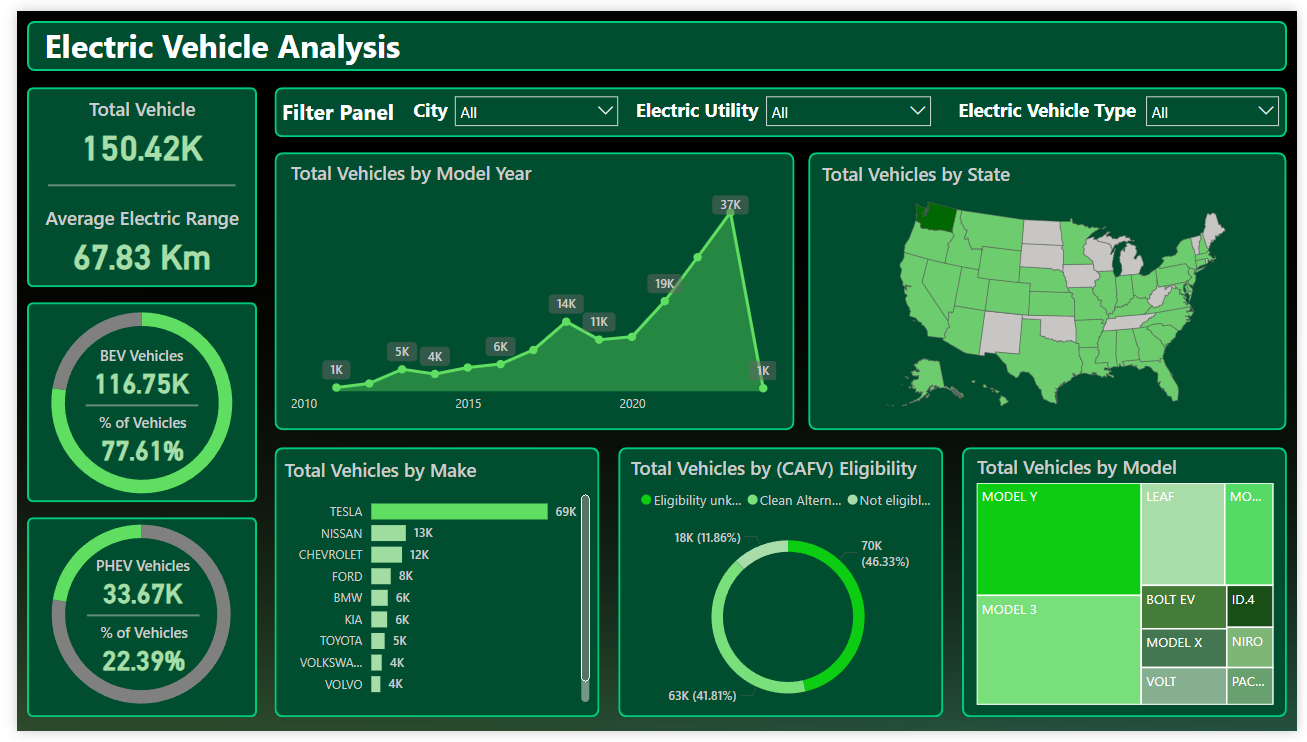

The dashboard page shown, as its layout file describes it:
{"tool":"powerbi","page":{"name":"Page 1","canvas":[1280,720],"ordinal":0},"visuals":[{"type":"slicer","fields":{"Values":["Electric_Vehicle_Population_Data.City"]},"box":[427.6,75.3,183.9,46.7],"z":0,"group":"g4"},{"type":"shape","box":[10,76.1,230,200],"z":0,"group":"g1"},{"type":"shape","box":[257.5,76.2,1012.5,50],"z":0},{"type":"donutChart","fields":{"Category":["Electric_Vehicle_Population_Data.Electric Vehicle Type"],"Y":["Electric_Vehicle_Population_Data.Total Vehicles"]},"box":[0,491.2,248.8,228.8],"z":0,"group":"g3"},{"type":"textbox","box":[391.5,82.1,66.7,39.1],"z":1000,"group":"g4"},{"type":"card","title":"Total Vehicle","fields":{"Values":["Electric_Vehicle_Population_Data.Total Vehicles"]},"box":[10,84.7,230,74.3],"z":1000,"group":"g1"},{"type":"donutChart","fields":{"Category":["Electric_Vehicle_Population_Data.Electric Vehicle Type"],"Y":["Electric_Vehicle_Population_Data.Total Vehicles"]},"box":[5,278.8,240,231.2],"z":1000,"group":"g2"},{"type":"shape","box":[10,290.9,230,200],"z":1000},{"type":"shape","box":[70,585.2,112.5,38.8],"z":1000,"group":"g3"},{"type":"slicer","fields":{"Values":["Electric_Vehicle_Population_Data.Electric Utility"]},"box":[739.3,75,185,46.7],"z":2000},{"type":"card","title":"Average Electric Range","fields":{"Values":["Electric_Vehicle_Population_Data.Avg Range"]},"box":[10,193.2,230,74.3],"z":2000,"group":"g1"},{"type":"card","title":"PHEV Vehicles","fields":{"Values":["Electric_Vehicle_Population_Data.PHEV Vehicles"]},"box":[47.5,543.9,156.2,55],"z":2000,"group":"g3"},{"type":"shape","box":[257.5,141.2,520,278],"z":3000},{"type":"shape","box":[31.4,154.7,187.1,38.6],"z":3000,"group":"g1"},{"type":"shape","box":[68.8,375,112.5,38.8],"z":3000,"group":"g2"},{"type":"card","title":"% of Vehicles","fields":{"Values":["Electric_Vehicle_Population_Data.% of PHEV"]},"box":[48.7,611.4,156.2,55],"z":3000,"group":"g3"},{"type":"textbox","box":[614.3,81.7,158.3,40],"z":4000},{"type":"card","title":"BEV Vehicles","fields":{"Values":["Electric_Vehicle_Population_Data.BEV Vehicles"]},"box":[46.2,333.8,156.2,55],"z":4000,"group":"g2"},{"type":"shape","box":[10,10,1260,50],"z":5000},{"type":"textbox","box":[22.9,7.1,378.6,62.9],"z":6000},{"type":"shape","box":[10,505.7,230,200],"z":7000},{"type":"card","title":"% of Vehicles","fields":{"Values":["Electric_Vehicle_Population_Data.% of BEV"]},"box":[47.5,401.3,156.2,55],"z":7001,"group":"g2"},{"type":"group","id":"g1","title":"Group 1","box":[10,76.1,230,200],"z":8000},{"type":"group","id":"g2","title":"Group 2","box":[5,278.8,240,231.2],"z":9000},{"type":"group","id":"g3","title":"Group 3","box":[0,491.2,248.8,228.8],"z":10000},{"type":"areaChart","fields":{"Y":["Electric_Vehicle_Population_Data.Total Vehicles"],"Category":["Electric_Vehicle_Population_Data.Model Year"]},"box":[268.6,148.6,495.7,262.9],"z":11000},{"type":"shape","box":[791.7,141.7,478.3,278],"z":12000},{"type":"shapeMap","fields":{"Category":["Electric_Vehicle_Population_Data.State"],"Value":["Electric_Vehicle_Population_Data.Total Vehicles"]},"box":[800.2,150.2,477.9,261.6],"z":13000},{"type":"shape","box":[257.5,436.2,325,270],"z":14000},{"type":"barChart","fields":{"Category":["Electric_Vehicle_Population_Data.Make"],"Y":["Electric_Vehicle_Population_Data.Total Vehicles"]},"box":[262.5,446.2,315,250],"z":15000},{"type":"shape","box":[601.2,436.2,325,270],"z":16000},{"type":"shape","box":[945,436.2,325,270],"z":17000},{"type":"donutChart","title":"Total Vehicles by (CAFV) Eligibility","fields":{"Category":["Electric_Vehicle_Population_Data.Clean Alternative Fuel Vehicle (CAFV) Eligibility"],"Y":["Electric_Vehicle_Population_Data.Total Vehicles"]},"box":[608.8,443.8,325,270],"z":18000},{"type":"treemap","fields":{"Group":["Electric_Vehicle_Population_Data.Model"],"Values":["Electric_Vehicle_Population_Data.Total Vehicles"]},"box":[955,442.5,306.2,256.2],"z":19000},{"type":"textbox","box":[260,81.7,193.3,58.3],"z":20000},{"type":"group","id":"g4","title":"Group 4","box":[391.5,75.3,220,46.7],"z":21000},{"type":"slicer","fields":{"Values":["Electric_Vehicle_Population_Data.Electric Vehicle Type"]},"box":[1118.3,75,153.3,46.7],"z":22000},{"type":"textbox","box":[936.7,81.7,208.3,45],"z":23000}]}

Visuals, with their boxes in screenshot pixels (x1, y1, x2, y2), scaled from the page's 1280x720 canvas onto the 1307x742 screenshot:
slicer - Electric_Vehicle_Population_Data.City: region(437, 78, 624, 126)
shape: region(10, 78, 245, 285)
shape: region(263, 79, 1297, 130)
donutChart - Electric_Vehicle_Population_Data.Electric Vehicle Type x Electric_Vehicle_Population_Data.Total Vehicles: region(0, 506, 254, 741)
textbox: region(400, 85, 468, 125)
"Total Vehicle" card: region(10, 87, 245, 164)
donutChart - Electric_Vehicle_Population_Data.Electric Vehicle Type x Electric_Vehicle_Population_Data.Total Vehicles: region(5, 287, 250, 526)
shape: region(10, 300, 245, 506)
shape: region(71, 603, 186, 643)
slicer - Electric_Vehicle_Population_Data.Electric Utility: region(755, 77, 944, 125)
"Average Electric Range" card: region(10, 199, 245, 276)
"PHEV Vehicles" card: region(49, 561, 208, 617)
shape: region(263, 146, 794, 432)
shape: region(32, 159, 223, 199)
shape: region(70, 386, 185, 426)
"% of Vehicles" card: region(50, 630, 209, 687)
textbox: region(627, 84, 789, 125)
"BEV Vehicles" card: region(47, 344, 207, 401)
shape: region(10, 10, 1297, 62)
textbox: region(23, 7, 410, 72)
shape: region(10, 521, 245, 727)
"% of Vehicles" card: region(49, 414, 208, 470)
"Group 1" group: region(10, 78, 245, 285)
"Group 2" group: region(5, 287, 250, 526)
"Group 3" group: region(0, 506, 254, 741)
areaChart - Electric_Vehicle_Population_Data.Total Vehicles x Electric_Vehicle_Population_Data.Model Year: region(274, 153, 780, 424)
shape: region(808, 146, 1297, 433)
shapeMap - Electric_Vehicle_Population_Data.State x Electric_Vehicle_Population_Data.Total Vehicles: region(817, 155, 1305, 424)
shape: region(263, 450, 595, 728)
barChart - Electric_Vehicle_Population_Data.Make x Electric_Vehicle_Population_Data.Total Vehicles: region(268, 460, 590, 717)
shape: region(614, 450, 946, 728)
shape: region(965, 450, 1297, 728)
"Total Vehicles by (CAFV) Eligibility" donutChart: region(622, 457, 953, 736)
treemap - Electric_Vehicle_Population_Data.Model x Electric_Vehicle_Population_Data.Total Vehicles: region(975, 456, 1288, 720)
textbox: region(265, 84, 463, 144)
"Group 4" group: region(400, 78, 624, 126)
slicer - Electric_Vehicle_Population_Data.Electric Vehicle Type: region(1142, 77, 1298, 125)
textbox: region(956, 84, 1169, 131)
